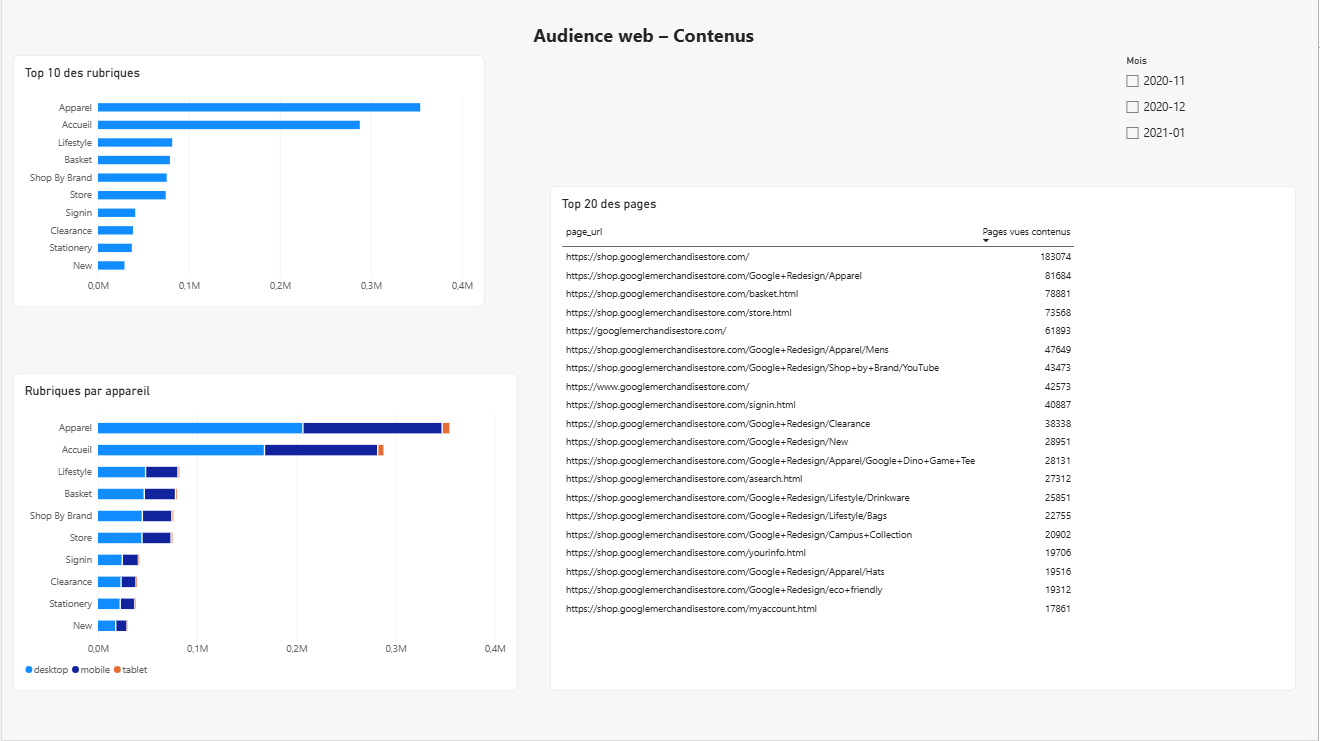

This screenshot's page, from the dashboard's own definition file:
{"tool":"powerbi","page":{"name":"Contenus","canvas":[1920,1080],"ordinal":2},"visuals":[{"type":"barChart","title":"Top 10 des rubriques","fields":{"Category":["pages.Rubrique"],"Y":["sessions.Pages vues contenus"]},"box":[16,80,688,368],"z":0},{"type":"tableEx","title":"Top 20 des pages","fields":{"Values":["pages.page_url","sessions.Pages vues contenus"]},"box":[800,272,1088,736],"z":1},{"type":"slicer","fields":{"Values":["Calendrier.Mois"]},"box":[1632,80,208,160],"z":2},{"type":"barChart","title":"Rubriques par appareil","fields":{"Category":["pages.Rubrique"],"Series":["pages.device_category"],"Y":["sessions.Pages vues contenus"]},"box":[16,544,736,464],"z":3},{"type":"textbox","box":[0,32,1872,48],"z":5}]}

Visuals, with their boxes in screenshot pixels (x1, y1, x2, y2), scaled from the page's 1920x1080 canvas onto the 1320x741 screenshot:
"Top 10 des rubriques" barChart: (11, 55, 484, 307)
"Top 20 des pages" tableEx: (550, 187, 1298, 692)
slicer - Calendrier.Mois: (1122, 55, 1265, 165)
"Rubriques par appareil" barChart: (11, 373, 517, 692)
textbox: (0, 22, 1287, 55)
